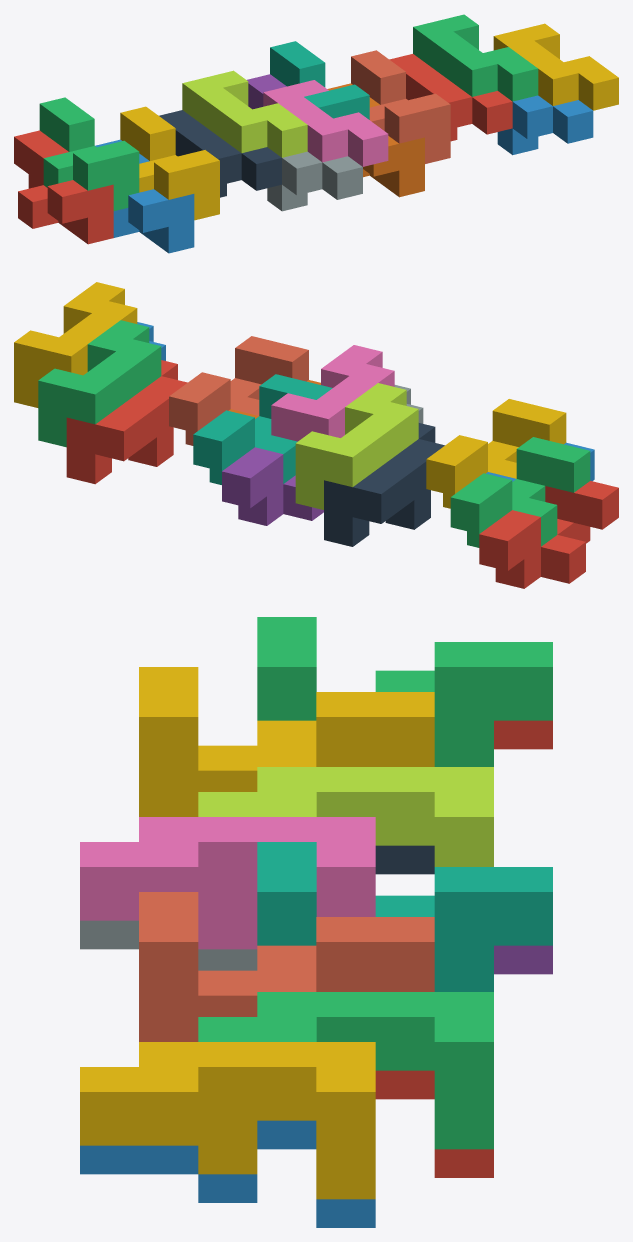
Rendered from tiling.obj.
The picture shows the model from 3 angles, top to bottom: view 1: azimuth 30°, elevation 25°; view 2: azimuth 150°, elevation 25°; view 3: azimuth 270°, elevation 25°; orthographic projection. The views are drawn at different scales.
Visible parts, largest first — view 1: copy_2_domain_3, copy_2_domain_7, copy_1_domain_3, copy_1_domain_1, copy_1_domain_4, copy_1_domain_8, copy_2_domain_8, copy_2_domain_4, copy_2_domain_5, copy_2_domain_1, copy_1_domain_2, copy_2_domain_6 (+4 smaller); view 2: copy_1_domain_1, copy_2_domain_7, copy_2_domain_3, copy_1_domain_3, copy_2_domain_5, copy_2_domain_1, copy_1_domain_4, copy_1_domain_8, copy_2_domain_8, copy_1_domain_7, copy_2_domain_4, copy_1_domain_5; view 3: copy_2_domain_8, copy_2_domain_4, copy_1_domain_4, copy_1_domain_8, copy_2_domain_7, copy_1_domain_3, copy_1_domain_7, copy_2_domain_3, copy_2_domain_6, copy_2_domain_5, copy_2_domain_2, copy_2_domain_1 (+2 smaller).
Part boxes in pixels (left/top/right/bottom): copy_2_domain_3: left=182, top=70, right=307, bottom=157; copy_2_domain_7: left=413, top=14, right=538, bottom=101; copy_1_domain_3: left=39, top=97, right=139, bottom=210; copy_1_domain_1: left=14, top=130, right=113, bottom=244; copy_1_domain_4: left=120, top=106, right=219, bottom=220; copy_1_domain_8: left=351, top=50, right=450, bottom=163; copy_2_domain_8: left=493, top=23, right=618, bottom=110; copy_2_domain_4: left=263, top=80, right=388, bottom=166; copy_2_domain_5: left=389, top=54, right=512, bottom=141; copy_2_domain_1: left=159, top=110, right=281, bottom=197; copy_1_domain_2: left=95, top=139, right=194, bottom=253; copy_2_domain_6: left=497, top=95, right=593, bottom=155; copy_1_domain_1: left=479, top=481, right=618, bottom=588; copy_2_domain_7: left=38, top=320, right=161, bottom=447; copy_2_domain_3: left=295, top=383, right=418, bottom=509; copy_1_domain_3: left=450, top=437, right=590, bottom=547; copy_2_domain_5: left=66, top=360, right=187, bottom=484; copy_2_domain_1: left=324, top=423, right=444, bottom=546; copy_1_domain_4: left=426, top=399, right=566, bottom=508; copy_1_domain_8: left=169, top=336, right=308, bottom=445; copy_2_domain_8: left=14, top=282, right=137, bottom=407; copy_1_domain_7: left=193, top=374, right=332, bottom=484; copy_2_domain_4: left=271, top=345, right=394, bottom=441; copy_1_domain_5: left=222, top=447, right=323, bottom=525; copy_2_domain_8: left=80, top=1042, right=375, bottom=1199; copy_2_domain_4: left=80, top=817, right=375, bottom=949; copy_1_domain_4: left=139, top=667, right=434, bottom=816; copy_1_domain_8: left=139, top=892, right=434, bottom=1041; copy_2_domain_7: left=198, top=992, right=493, bottom=1149; copy_1_domain_3: left=257, top=617, right=552, bottom=766; copy_1_domain_7: left=257, top=842, right=552, bottom=991; copy_2_domain_3: left=198, top=767, right=493, bottom=866; copy_2_domain_6: left=80, top=1120, right=375, bottom=1227; copy_2_domain_5: left=375, top=1070, right=493, bottom=1177; copy_2_domain_2: left=80, top=920, right=257, bottom=970; copy_2_domain_1: left=375, top=845, right=434, bottom=874.
Bounding box in the file's own units: 20 × 3 × 8.
